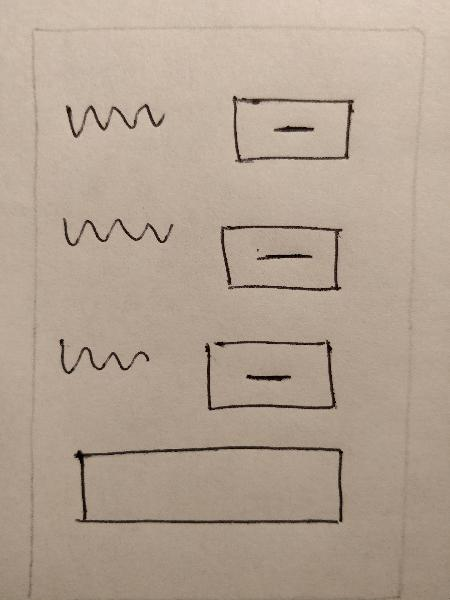button: (196, 331, 345, 422), (217, 82, 360, 176), (213, 216, 351, 300)
text: (49, 206, 178, 260), (50, 92, 172, 146), (51, 328, 157, 384)
text_input: (58, 434, 353, 541)
